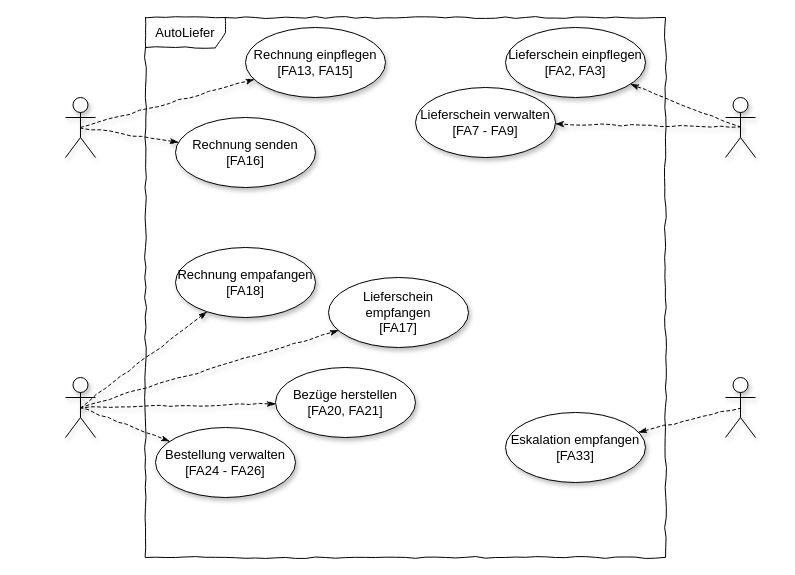
Image size: 795x575. Some labels were removed from this diagram. Each missing label, with the centre of its shape:
"Auftraggeber" goes at point 741,128.
"Einkäufer" goes at point 741,408.
"Rechnungsempfänger" goes at point 81,128.
"Rechnungsprüfer" goes at point 81,408.
